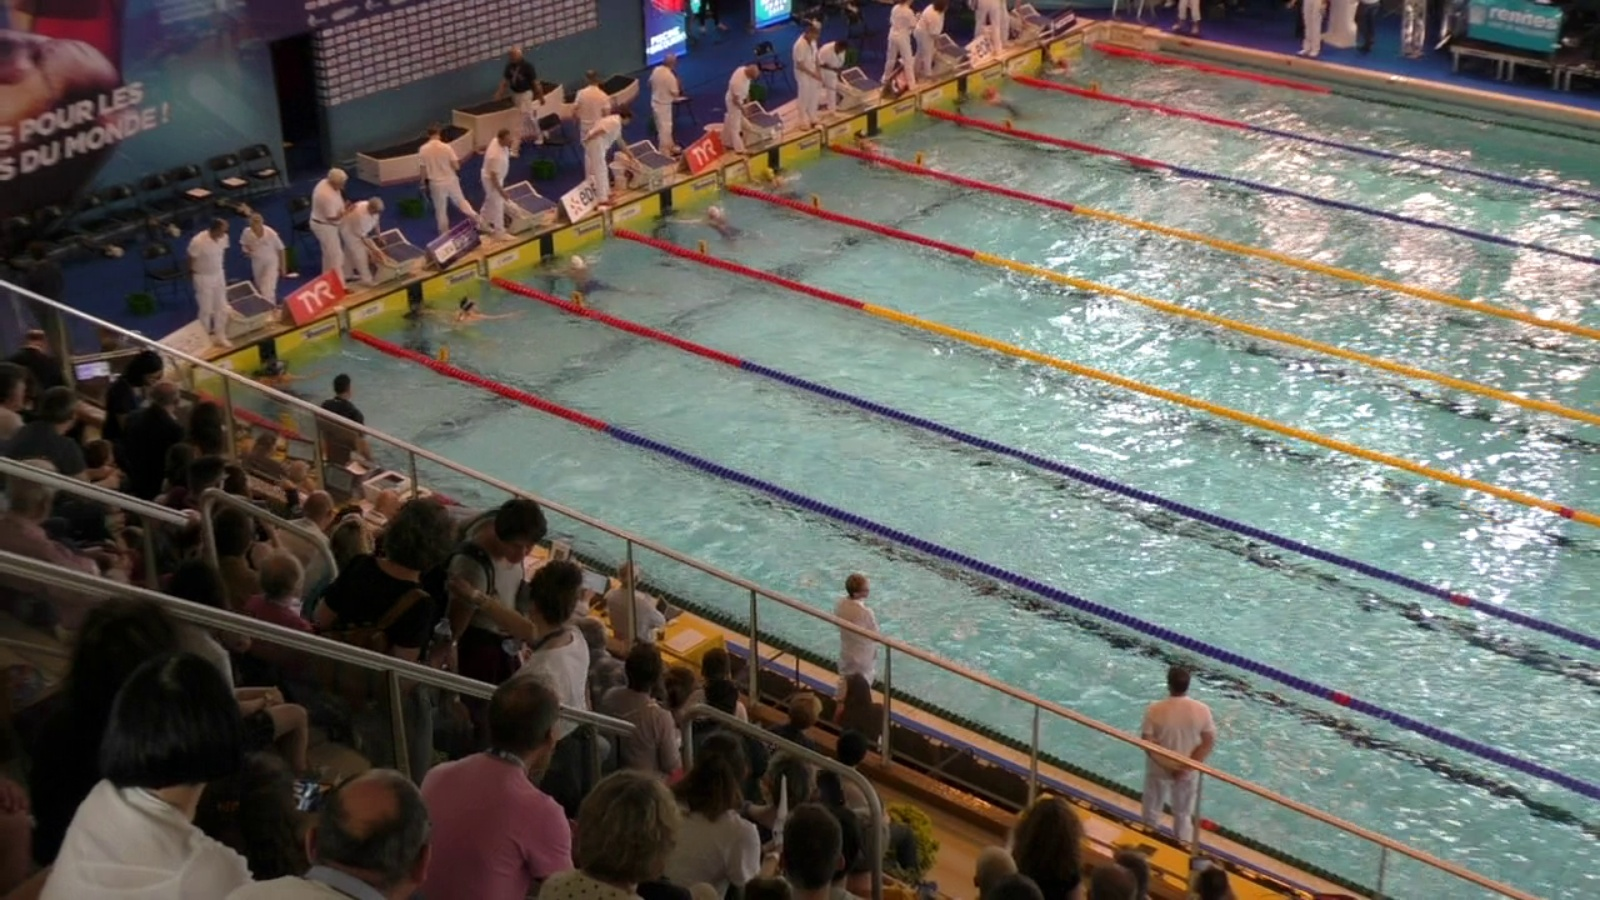swimmerwdd: (410, 288, 521, 353), (542, 248, 646, 299), (245, 356, 335, 413), (684, 200, 765, 259), (1038, 43, 1110, 91), (747, 169, 816, 215), (842, 127, 903, 176), (966, 73, 1029, 119)
